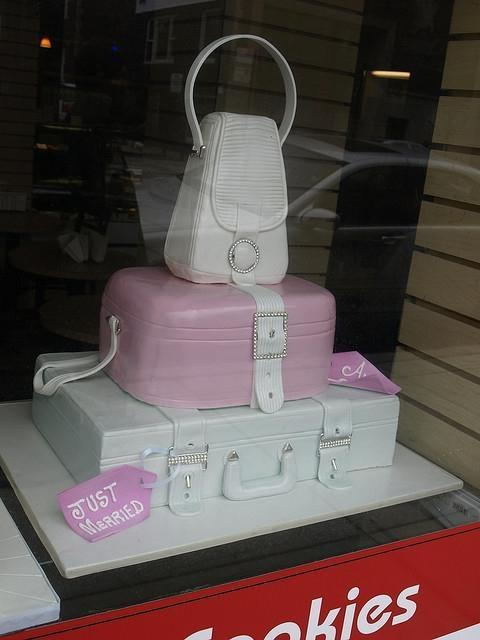car: (9, 116, 480, 348)
